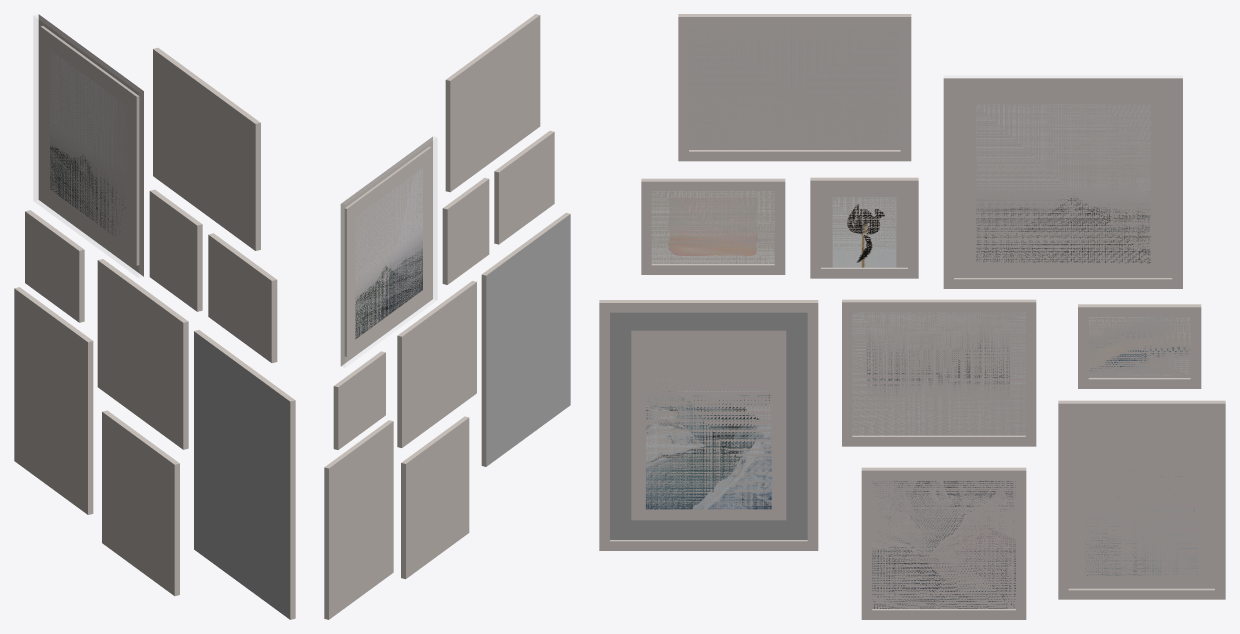
3 renders of one model, left to right at view 1: azimuth 30°, elevation 25°; view 2: azimuth 150°, elevation 25°; view 3: azimuth 270°, elevation 25°, orthographic. The views are drawn at different scales.
Visible parts, largest first — view 1: Mesh1_Group2_Group1_Model; view 2: Mesh1_Group2_Group1_Model; view 3: Mesh1_Group2_Group1_Model.
Boxes of the visible parts, x1=… form: Mesh1_Group2_Group1_Model: x1=14, y1=14, x2=295, y2=619; Mesh1_Group2_Group1_Model: x1=324, y1=14, x2=570, y2=619; Mesh1_Group2_Group1_Model: x1=599, y1=14, x2=1225, y2=619.
Bounding box in the file's own units: 0.0105 × 1 × 0.9415.
